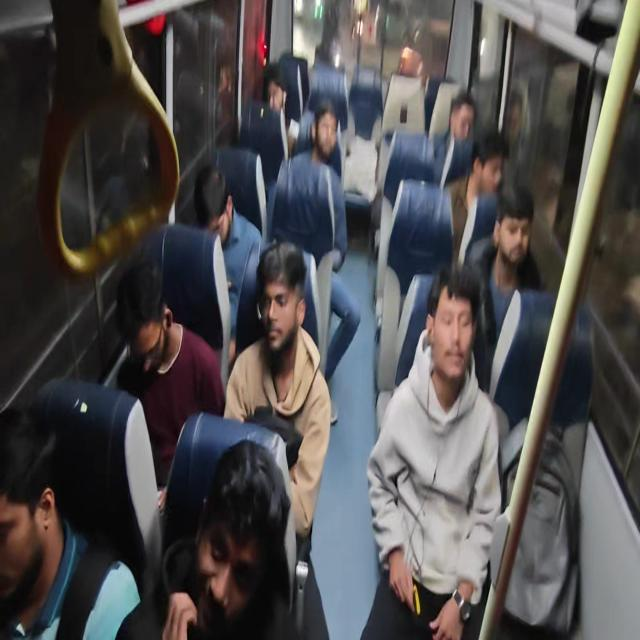person: (1, 403, 75, 612), (202, 442, 280, 637), (249, 242, 310, 377), (117, 254, 177, 380), (431, 268, 482, 396), (194, 155, 232, 250), (496, 183, 535, 272), (252, 53, 292, 130), (468, 127, 506, 207), (310, 89, 340, 182), (445, 87, 475, 148)
